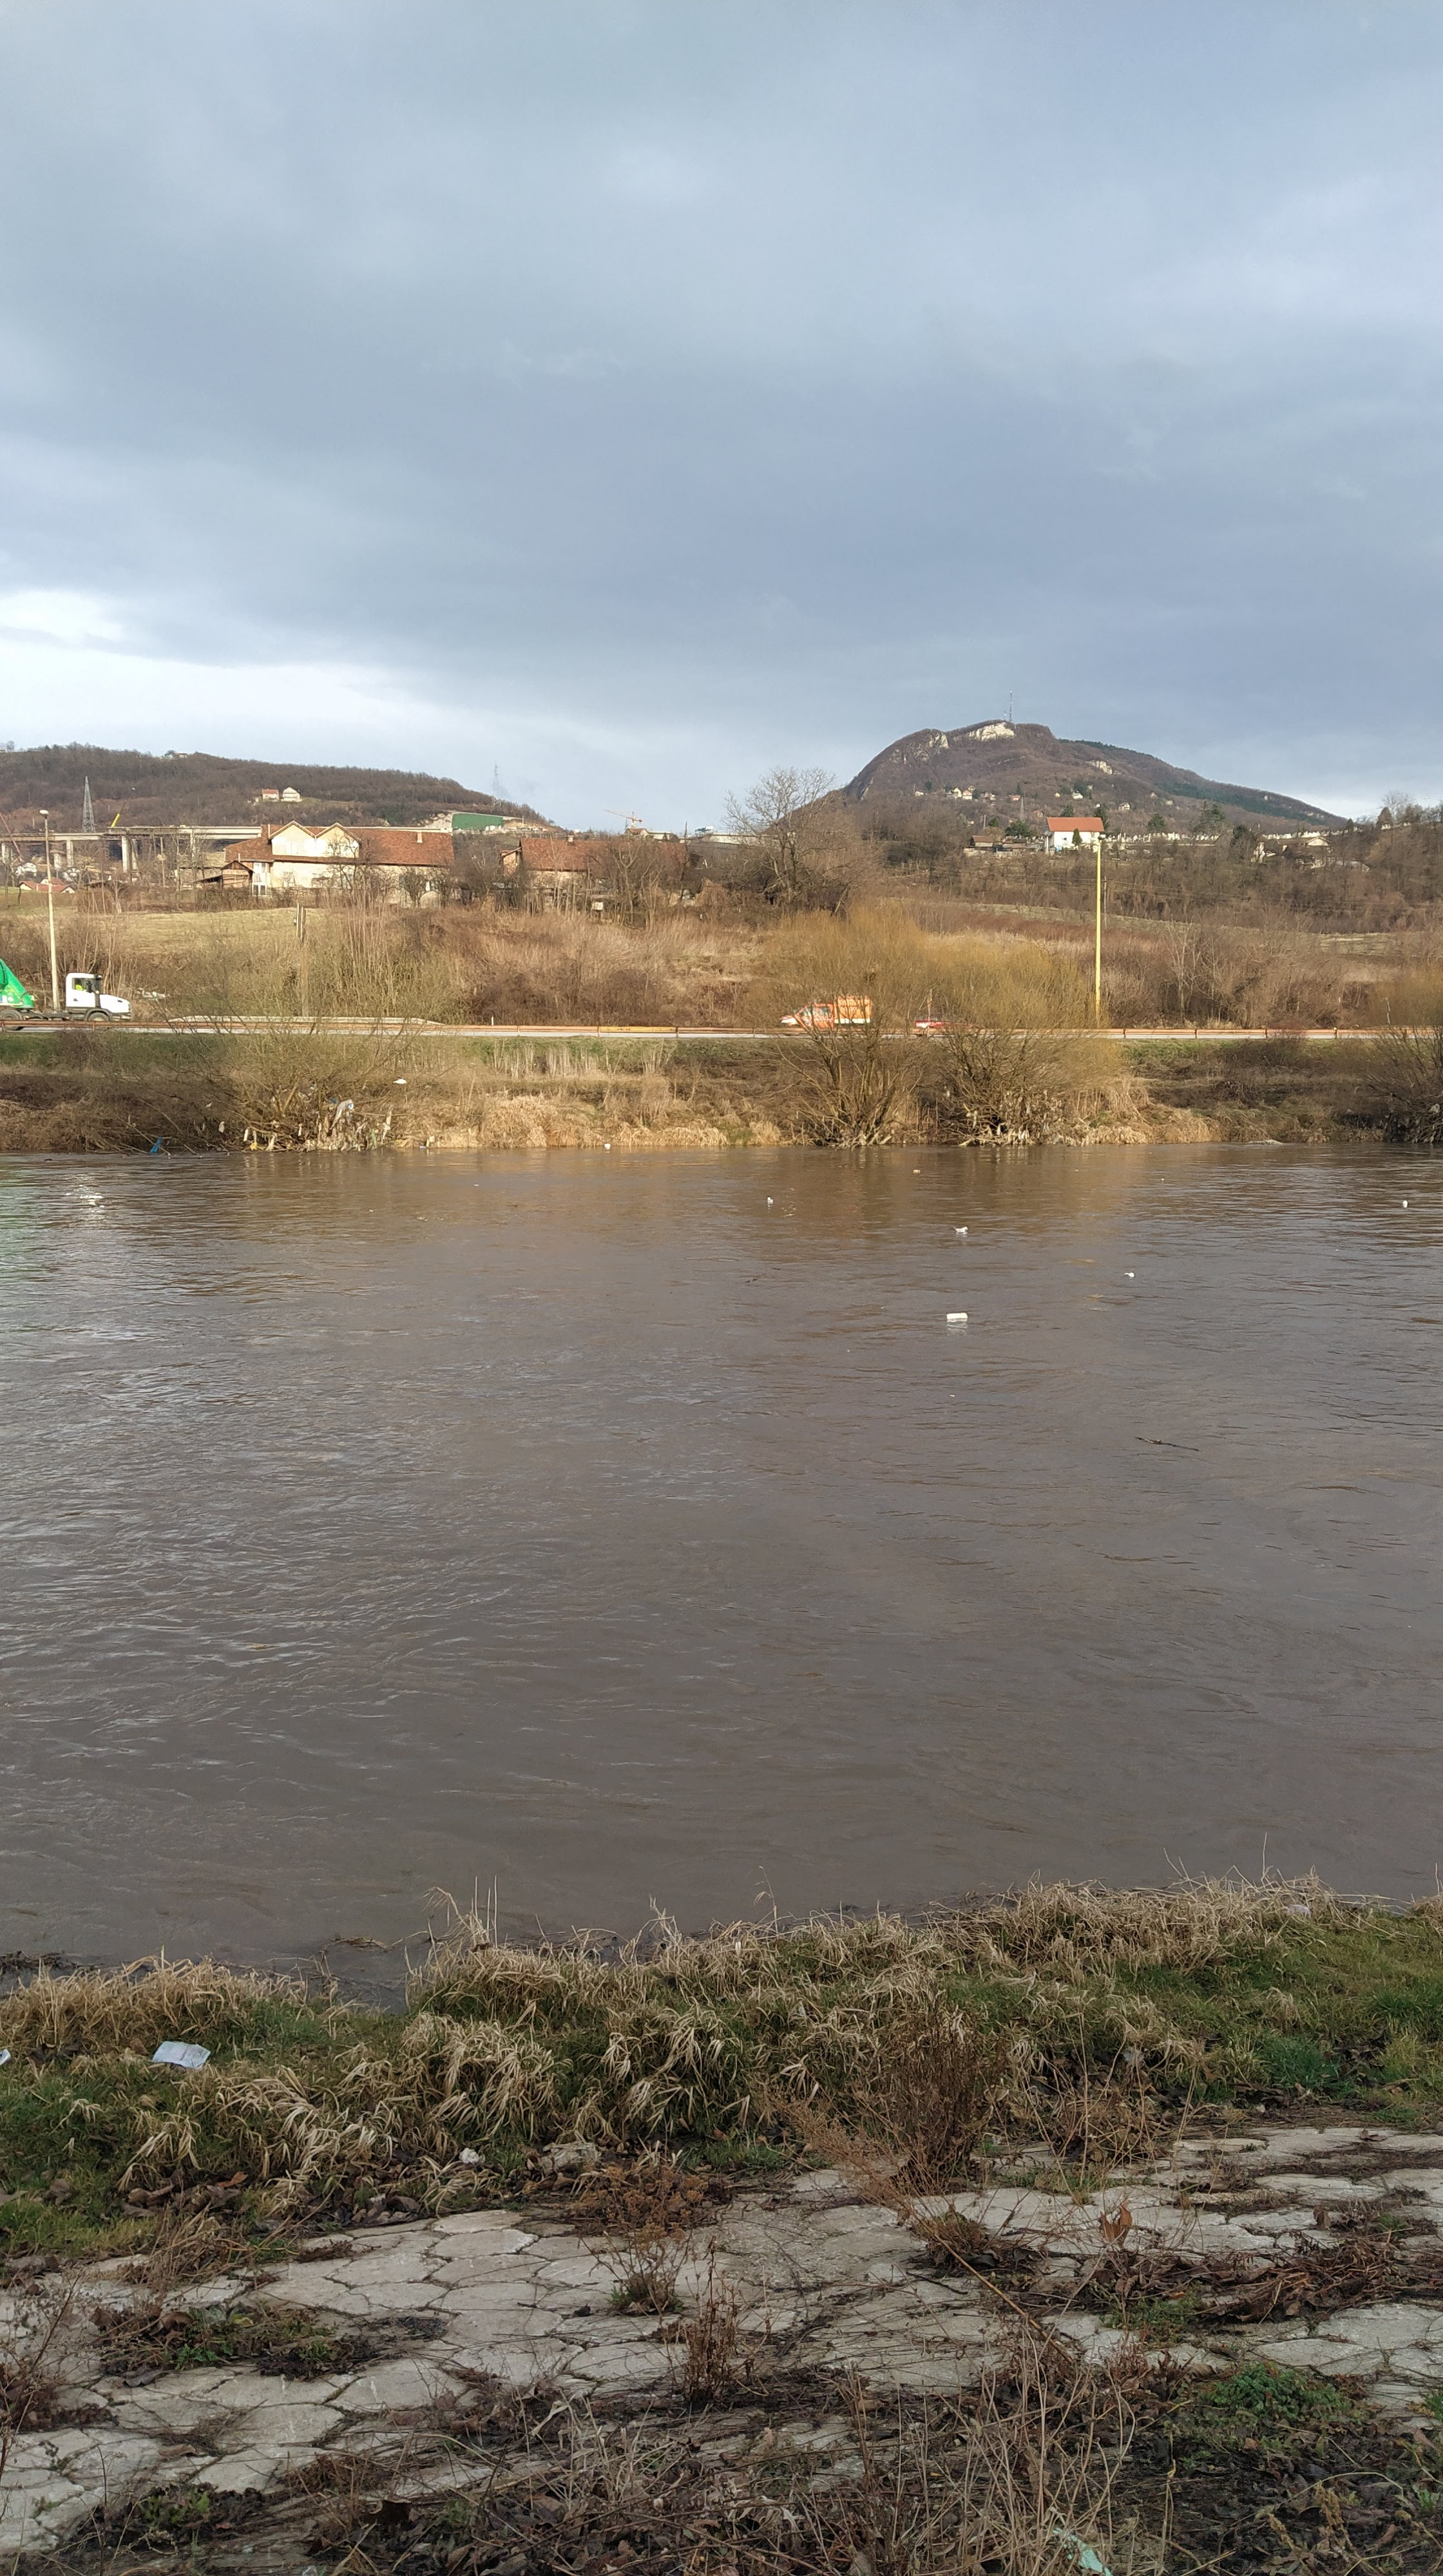Plastic Bottle: (945, 1311, 967, 1320), (914, 1169, 919, 1171)
